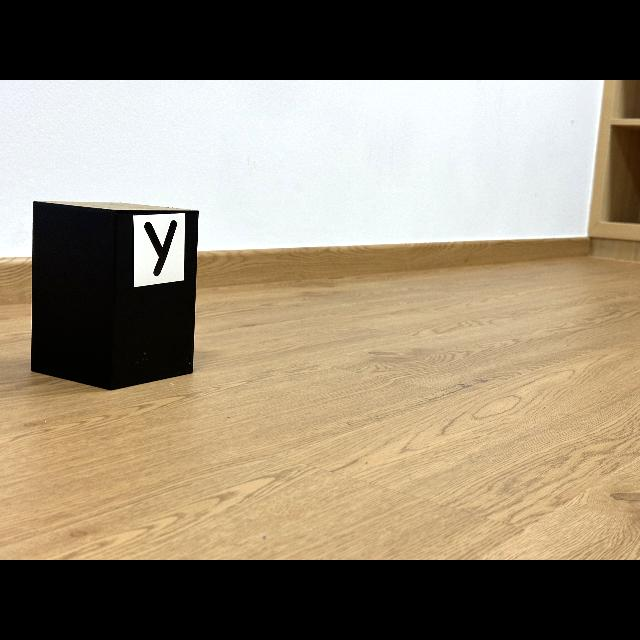Y: (144, 220, 178, 276)
